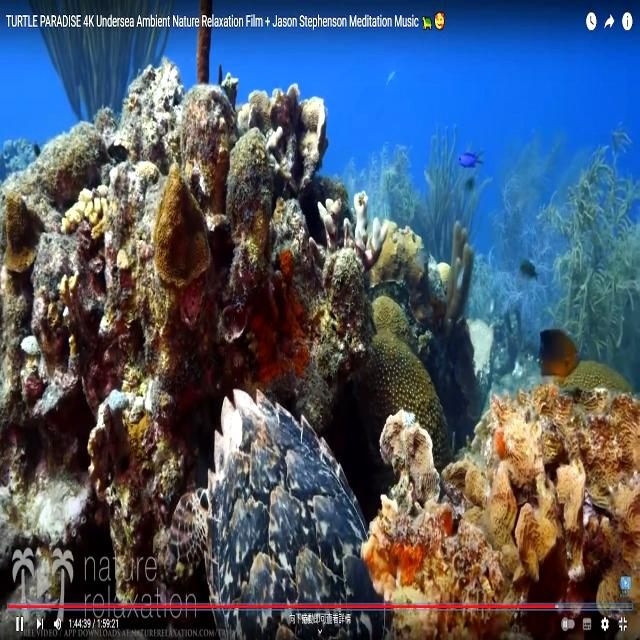Sea turtle: (168, 382, 392, 640)
